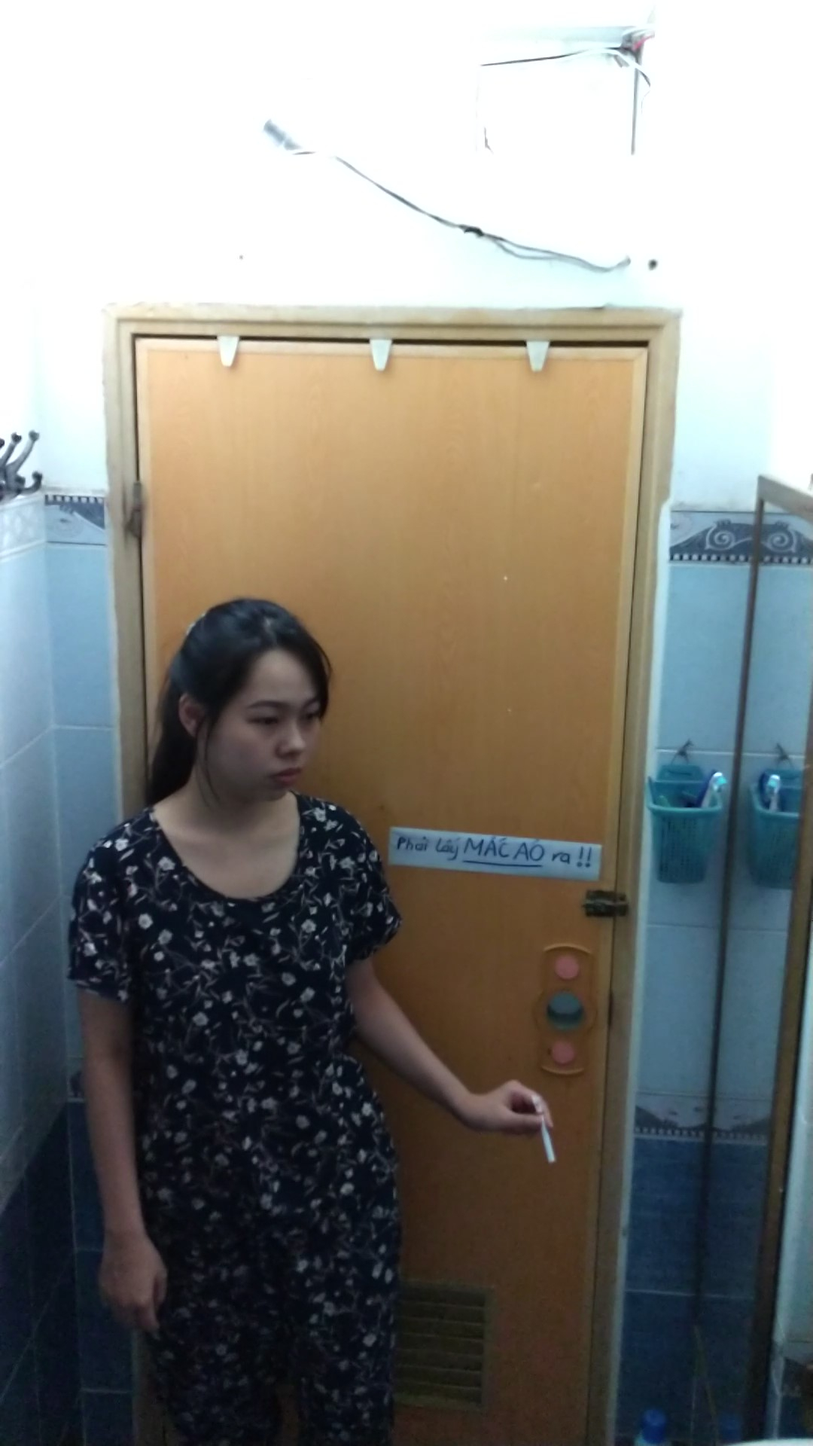cigarette: (536, 1125, 561, 1169)
person: (39, 575, 553, 1444)
